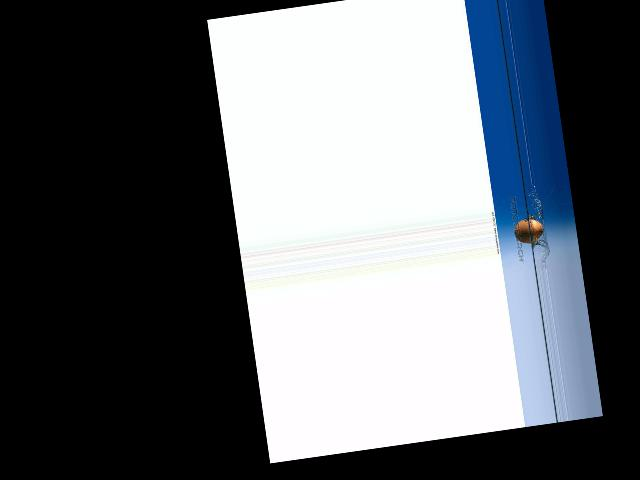egg: (512, 217, 544, 245)
